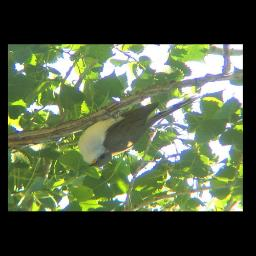Cuckoo: (77, 95, 204, 168)
